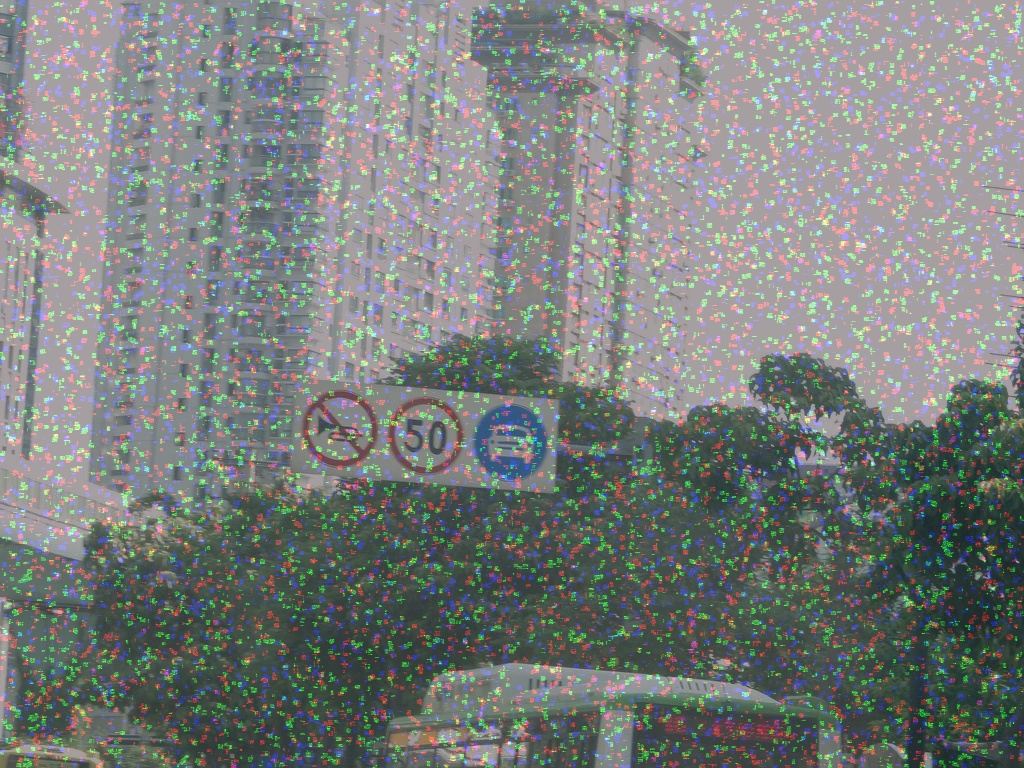Informative Signs: (471, 400, 551, 485)
Prohibitory Signs: (386, 394, 467, 478), (300, 389, 380, 470)
